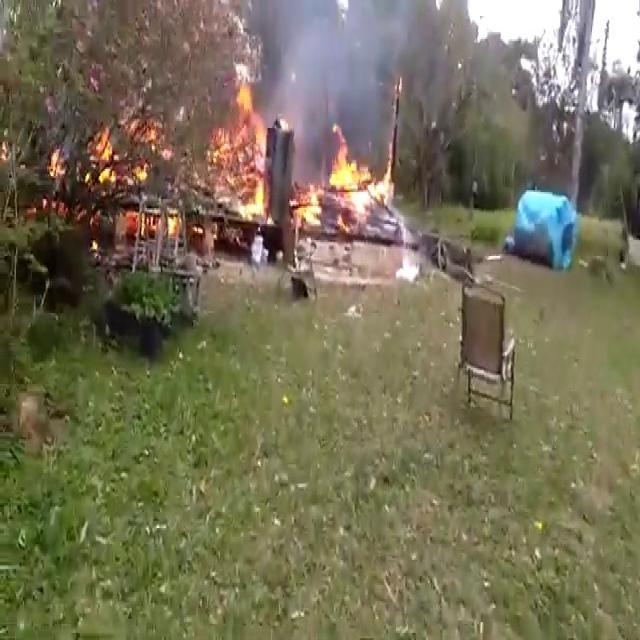Fire: (337, 144, 372, 207), (236, 94, 262, 150), (92, 138, 116, 188), (292, 188, 318, 230), (248, 178, 269, 223)
